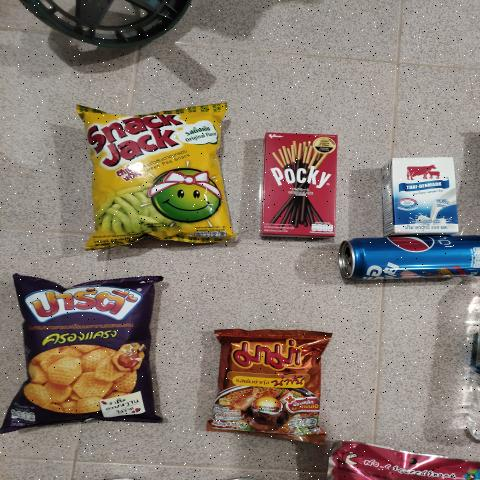mama: (224, 335, 320, 429)
party_purple: (26, 278, 156, 418)
pepsi_blue: (345, 239, 480, 278)
pokki: (266, 131, 340, 238)
snack_jack: (90, 108, 223, 236)
thai_denmark: (390, 157, 457, 231)
